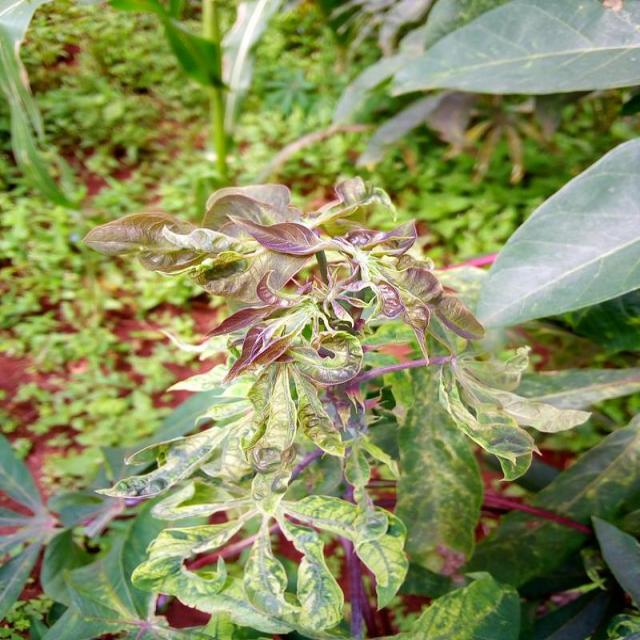cassava leaf: (473, 134, 638, 334), (389, 0, 638, 99)
